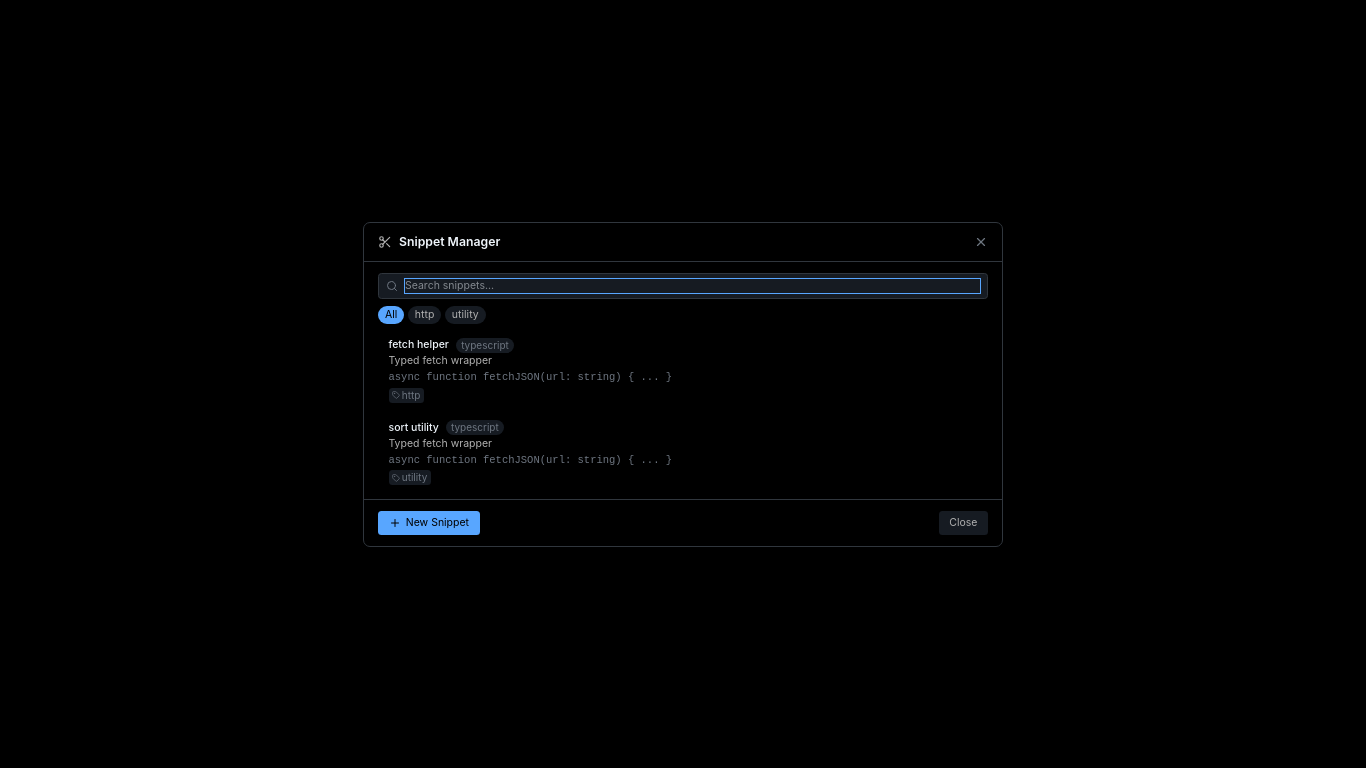
Test: SnippetManagerDialog › deselects tag when clicking the same tag again
Expected: the text "fetch helper" is shown, [388, 338, 449, 352]
Select tag
Click the button "utility".
click(465, 315)  # box [445, 306, 486, 324]
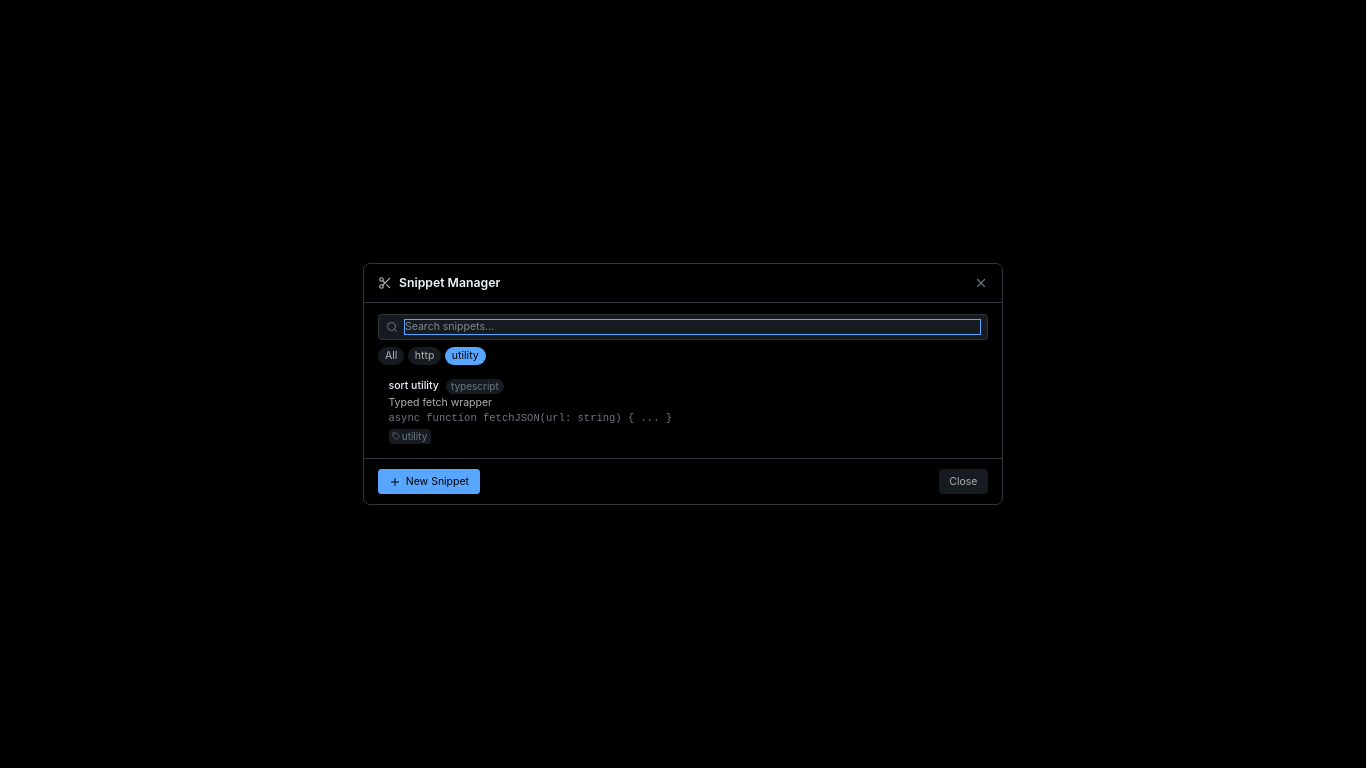
Now the button "fetch helper" is gone
Deselect tag
Click the button "utility".
click(465, 356)  # box [445, 347, 486, 365]
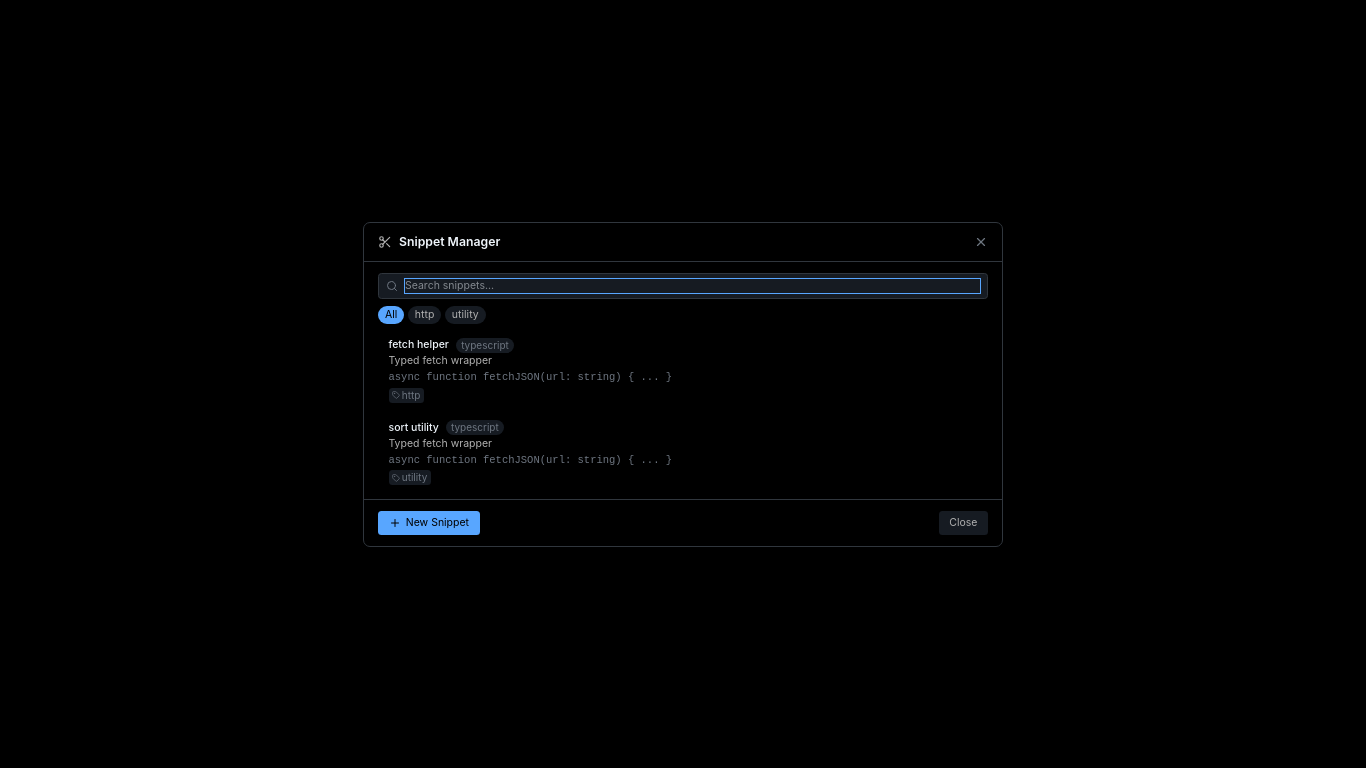
Expected: the text "sort utility" is shown, [388, 420, 439, 434]
Now the text "fetch helper" is shown, box [388, 338, 449, 352]
